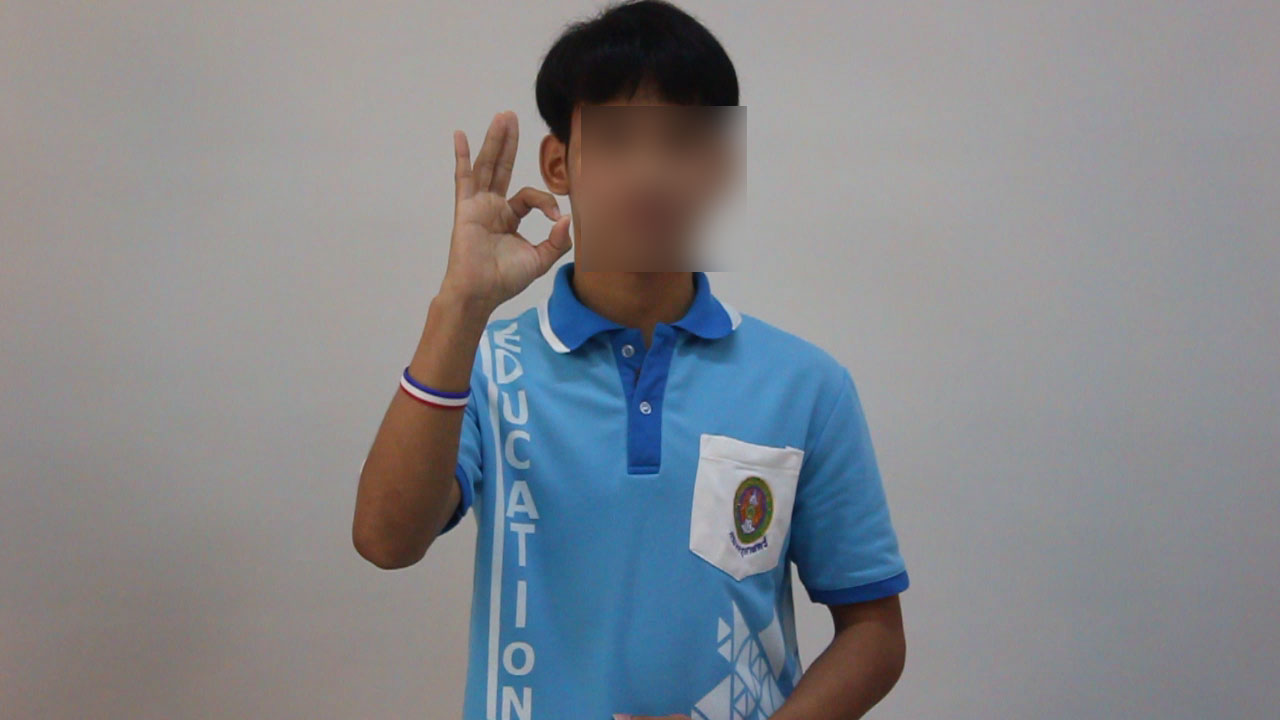for: (417, 101, 581, 321)
